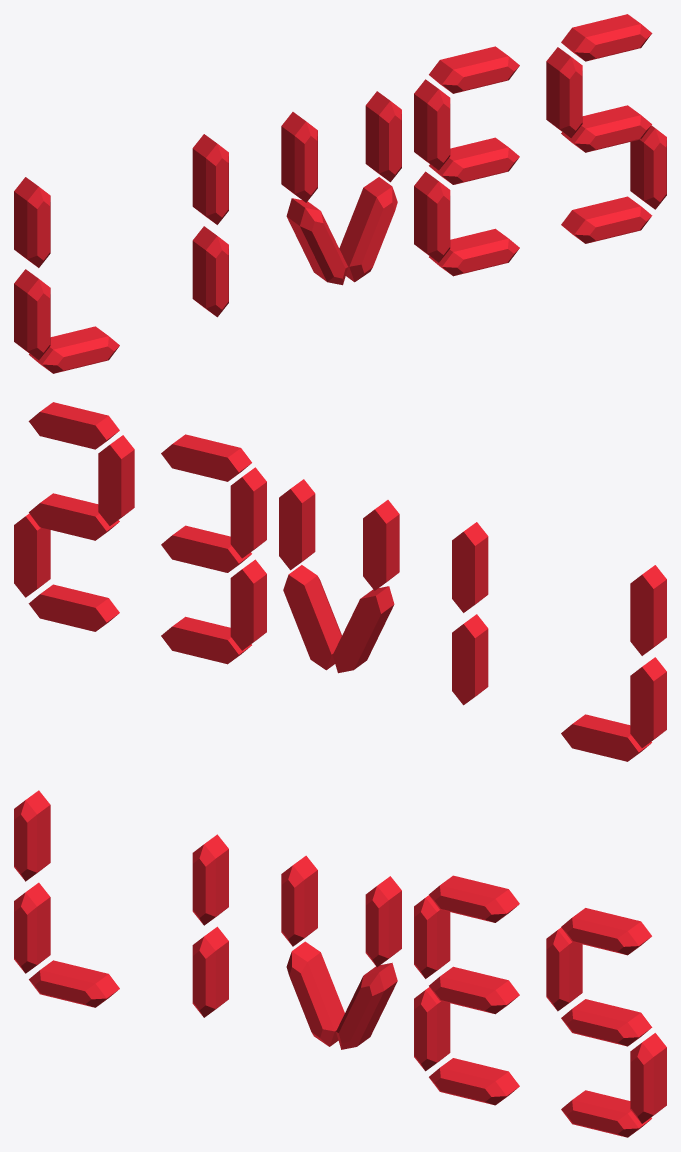
The model's file is LivesLetters.fbx.
3 views of the same model, one above another, from view 1: azimuth 30°, elevation 25°; view 2: azimuth 150°, elevation 25°; view 3: azimuth 330°, elevation 25° (orthographic).
Visible parts, largest first — view 1: Slash Segment.006, Slash Segment.007, Segment.092, Segment.103, Segment.114, Segment.085, Segment.093, Segment.100, Segment.106, Segment.107, Segment.086, Segment.111 (+7 smaller); view 2: Slash Segment.006, Slash Segment.007, Segment.092, Segment.103, Segment.114, Segment.085, Segment.093, Segment.100, Segment.106, Segment.107, Segment.086, Segment.111 (+7 smaller); view 3: Slash Segment.007, Slash Segment.006, Segment.103, Segment.116, Segment.085, Segment.092, Segment.100, Segment.086, Segment.093, Segment.111, Segment.084, Segment.105 (+7 smaller).
Part boxes in pixels (x1=…): Slash Segment.006: x1=339, y1=177, x2=397, y2=282; Slash Segment.007: x1=286, y1=198, x2=348, y2=285; Segment.092: x1=192, y1=226, x2=228, y2=317; Segment.103: x1=365, y1=91, x2=401, y2=182; Segment.114: x1=546, y1=47, x2=582, y2=137; Segment.085: x1=14, y1=269, x2=50, y2=359; Segment.093: x1=192, y1=134, x2=228, y2=224; Segment.100: x1=281, y1=112, x2=317, y2=202; Segment.106: x1=414, y1=171, x2=450, y2=262; Segment.107: x1=414, y1=79, x2=450, y2=170; Segment.086: x1=14, y1=177, x2=50, y2=267; Segment.111: x1=429, y1=46, x2=519, y2=93; Slash Segment.006: x1=283, y1=565, x2=341, y2=670; Slash Segment.007: x1=332, y1=586, x2=394, y2=673; Segment.092: x1=452, y1=614, x2=488, y2=705; Segment.103: x1=279, y1=479, x2=315, y2=570; Segment.114: x1=98, y1=435, x2=134, y2=525; Segment.085: x1=630, y1=657, x2=666, y2=747; Segment.093: x1=452, y1=522, x2=488, y2=612; Segment.100: x1=363, y1=500, x2=399, y2=590; Segment.106: x1=230, y1=559, x2=266, y2=650; Segment.107: x1=230, y1=467, x2=266, y2=558; Segment.086: x1=630, y1=565, x2=666, y2=655; Segment.111: x1=161, y1=434, x2=251, y2=481; Slash Segment.007: x1=286, y1=941, x2=344, y2=1046; Slash Segment.006: x1=336, y1=962, x2=397, y2=1049; Segment.103: x1=365, y1=876, x2=401, y2=967; Segment.116: x1=630, y1=1033, x2=666, y2=1123; Segment.085: x1=14, y1=882, x2=50, y2=973; Segment.092: x1=192, y1=926, x2=228, y2=1017; Segment.100: x1=281, y1=855, x2=317, y2=946; Segment.086: x1=14, y1=790, x2=50, y2=881; Segment.093: x1=192, y1=834, x2=228, y2=925; Segment.111: x1=429, y1=875, x2=519, y2=922; Segment.084: x1=29, y1=960, x2=119, y2=1007; Segment.105: x1=429, y1=1058, x2=519, y2=1105.
Size of the model in its own units: 551 by 26.93 by 170.
